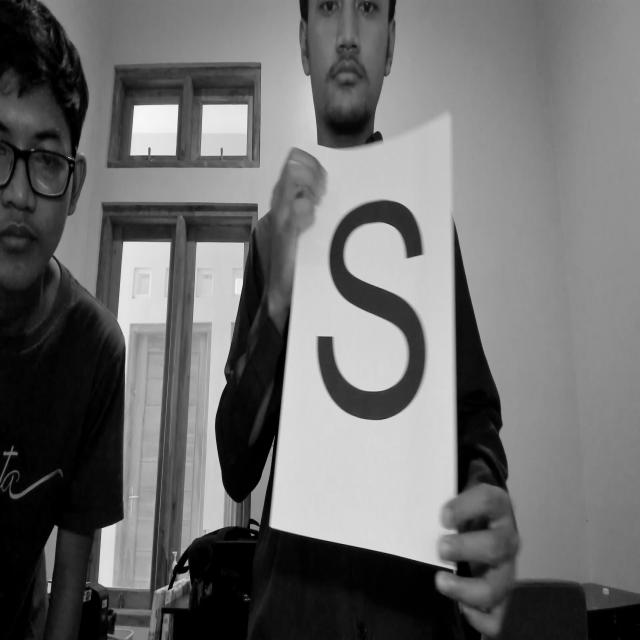s: (298, 167, 438, 440)
